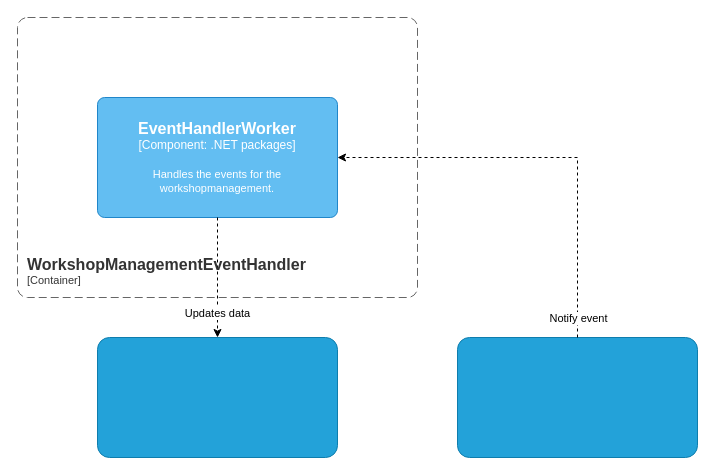
The diagram is 715 pixels wide and 475 high, and some of its shapes have lost their labels. Here are the shapes that lost their labels. From the top down, the centre of each, then its label:
At point 217,397: "RentalManagement [Container: SQL Server 2019] Stores the data of the rentals.".
At point 577,397: "RabbitMQ [Container: RabbitMQ] Sends events to the correct exchanges and queues.".
